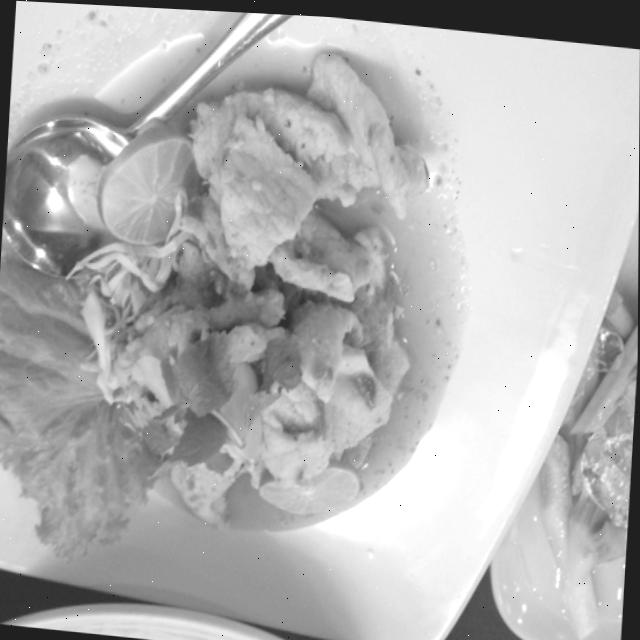猪肉菜式: (2, 32, 508, 569)
